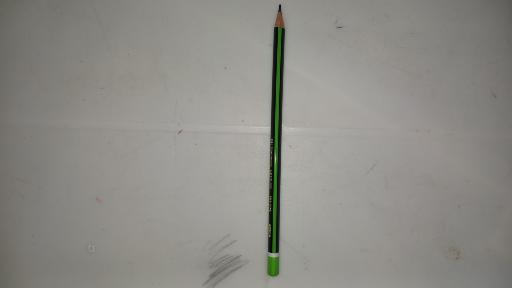Pencil: (268, 4, 287, 279)
